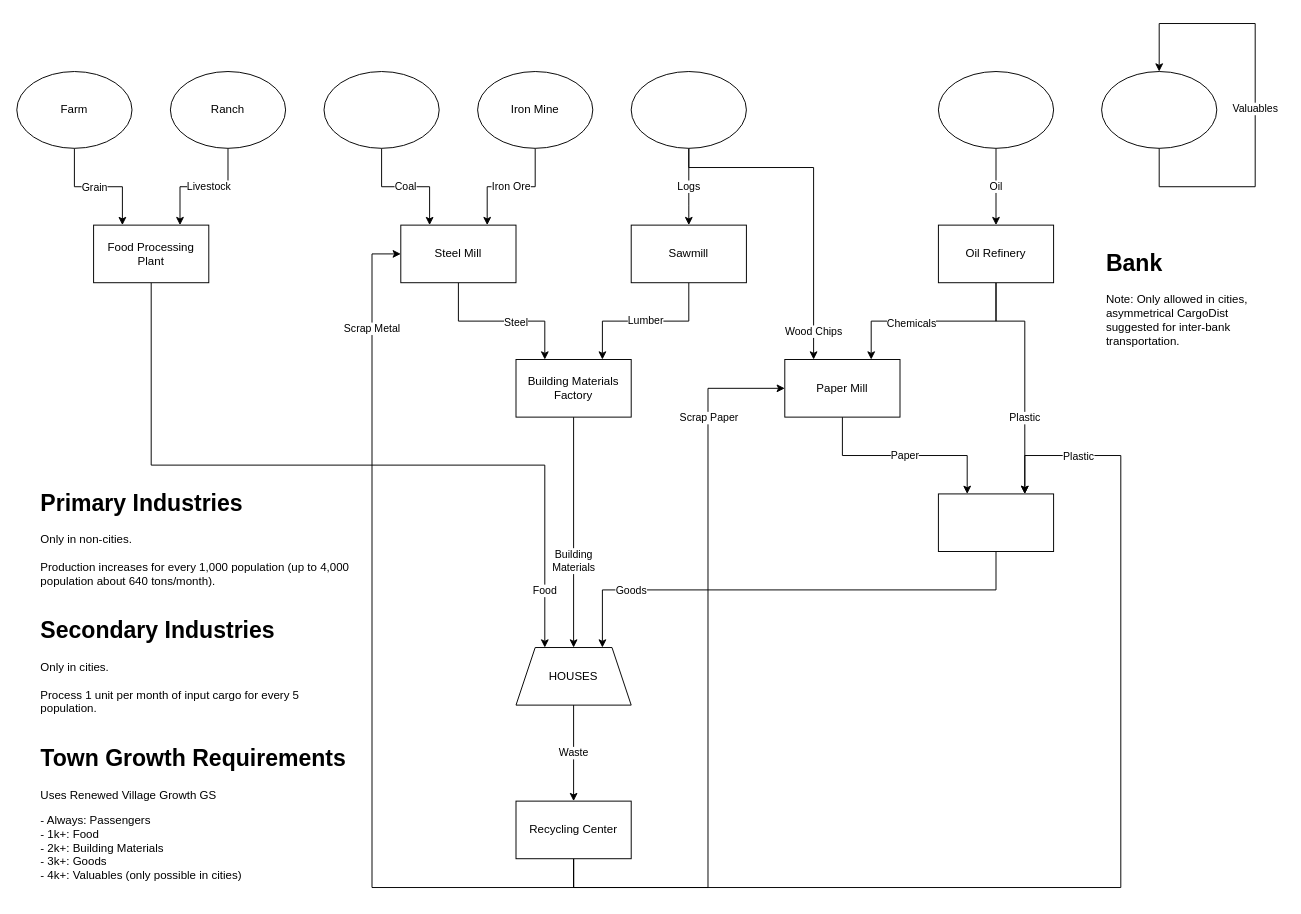
This 1301x914 diagram has some shape labels left out. Here are the shapes that lost their labels. From the top down, the centre of each, then its label:
At pixel 381 109: "Coal Mine".
At pixel 688 109: "Forest".
At pixel 995 109: "Oil Wells".
At pixel 1159 109: "Bank".
At pixel 995 522: "Goods Factory".
